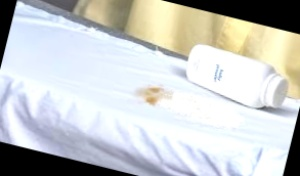oil: (129, 79, 166, 112)
